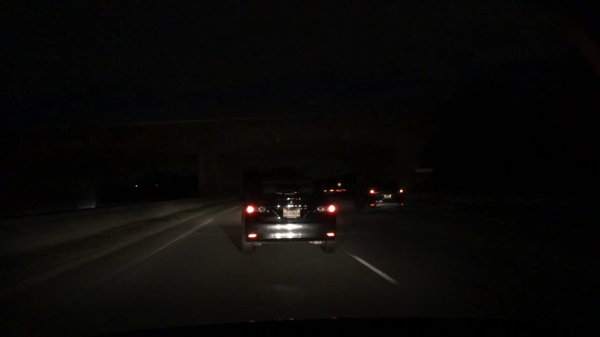car: (240, 163, 337, 254), (351, 174, 409, 213), (323, 187, 335, 196)
traffic sign: (414, 167, 436, 172), (337, 182, 341, 187)
